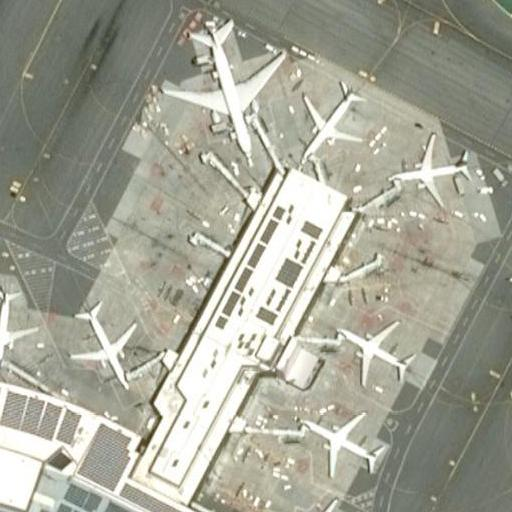Aircraft: (159, 19, 284, 156), (386, 132, 472, 209), (69, 298, 138, 390), (299, 409, 388, 478), (298, 78, 365, 162), (336, 317, 415, 385), (0, 284, 40, 374), (281, 495, 365, 512), (504, 246, 512, 335)
